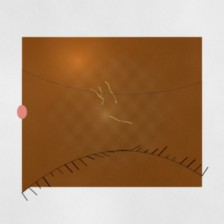corneal_ulcer: (82, 87, 135, 129)
